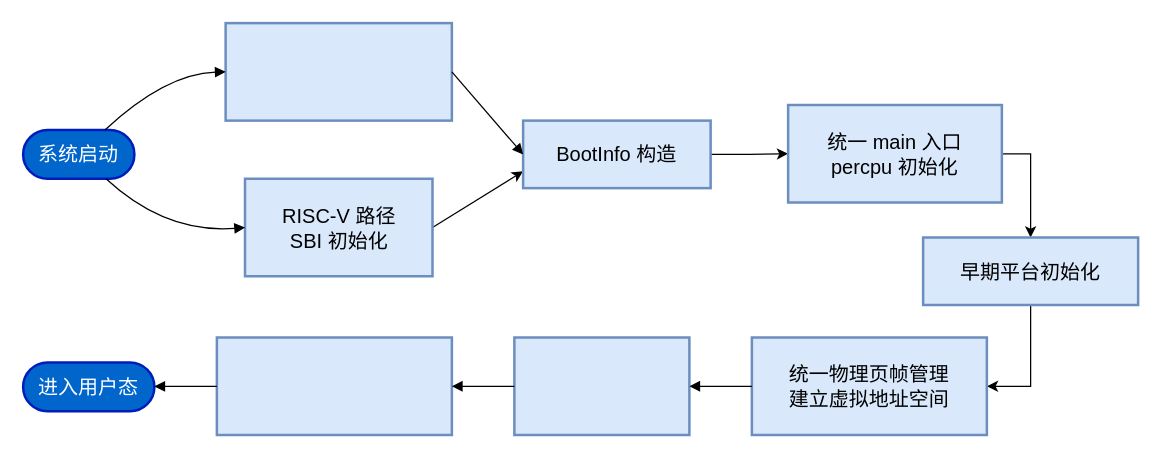
This 1160x458 diagram has some shape labels left out. The shapes that lost their labels are listed below. From the top down, each one's centre as x and y in pixels, then its label:
At (x=338, y=71): "x86_64 路径 Multiboot → 长模式".
At (x=333, y=386): "设备探测与域加载 ACPI/PCI vs FDT".
At (x=601, y=386): "中断初始化 中断分发".
